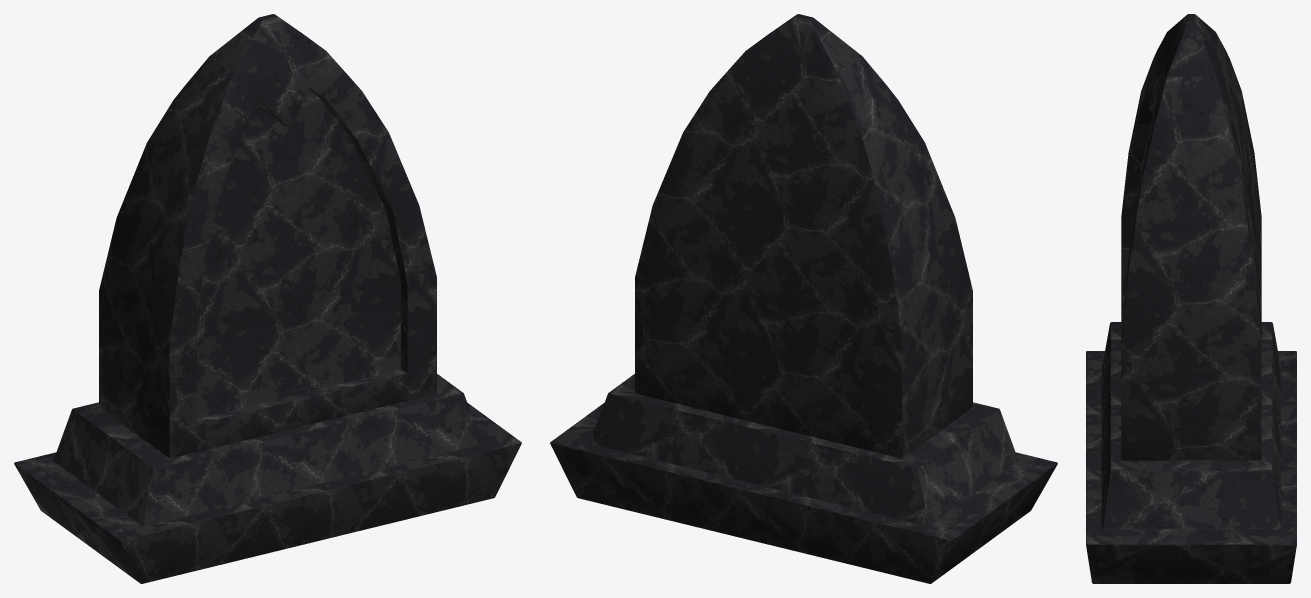
The model's file is round-tombstone.fbx.
The picture shows the model from 3 angles, left to right: view 1: azimuth 30°, elevation 25°; view 2: azimuth 150°, elevation 25°; view 3: azimuth 270°, elevation 25°; orthographic projection.
Parts seen in each view (by area): view 1: round-tombstone; view 2: round-tombstone; view 3: round-tombstone.
Boxes of the visible parts, left/top/right/bottom form: round-tombstone: left=14, top=14, right=521, bottom=583; round-tombstone: left=550, top=14, right=1057, bottom=583; round-tombstone: left=1086, top=14, right=1296, bottom=583.
Size of the model in its own units: 96.15 by 112 by 44.25.
